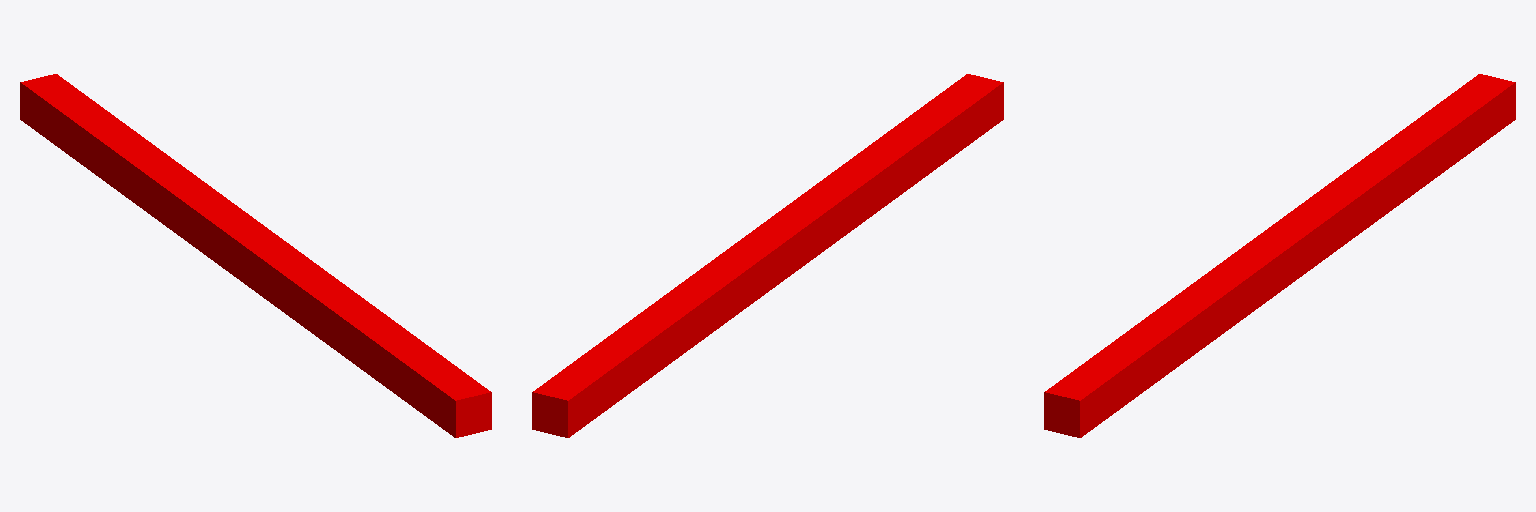
The robot description file, URDF, robot "wallb4":
<?xml version="1.0"?>
<robot name="wallb4">
	<link name="base">
	<inertial>
        	 <origin xyz="0 0 0" rpy="0 0 0"/>
        	 <mass value="2"/>
        	 <inertia ixx="0.000683333"  ixy="0"  ixz="0" iyy="0.000683333" iyz="0" izz="0.000683333" />
       </inertial>
		<visual>
			<origin xyz="0 0 0" rpy="0 0 0" />
			<geometry>
				<box size="0.01 0.21 0.01" />
			</geometry>
			<material>
				<color rgba="1 0 0 1" />
			</material>
		</visual>
	<collision>
            <origin xyz="0 0 0" rpy="0 0 0" />
            <geometry>
			<box size="0.01 0.21 0.01" />
            </geometry>
        </collision>
	</link>
</robot>

--- What the picture shows (computed from the rendered views, not written in the file) ---
3 views of the same robot in one strip: view 1: azimuth 30°, elevation 25°; view 2: azimuth 150°, elevation 25°; view 3: azimuth 330°, elevation 25° (orthographic).
Model wallb4 with 1 links and 0 joints (none), rooted at base, posed all joints at 0.
Links seen in each view (by area): view 1: base; view 2: base; view 3: base.
Boxes of the visible links, x1,y1,x2,y2 form: base: (20, 74, 491, 437); base: (532, 74, 1003, 437); base: (1044, 74, 1515, 437).
Size in the robot's own frame: 0.01 by 0.21 by 0.01 metres.
Geometry: primitives only (box / cylinder / sphere), no mesh files.
